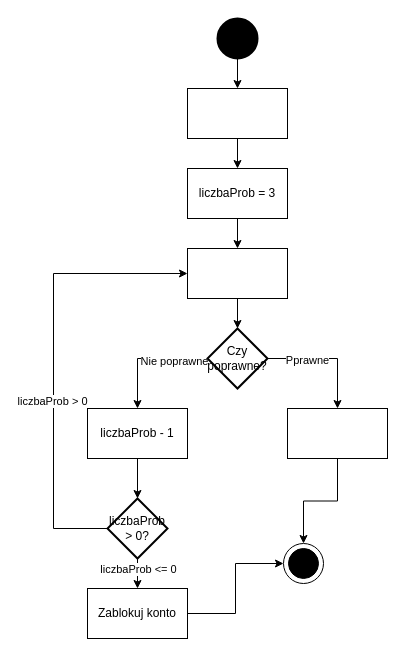
Image size: 405x656. Some labels were removed from this diagram. The box of each missing label's shape, as (x1, y1, x2, y2) in pixels:
Wprowadz dane lgowania: (186, 248, 288, 298)
Zaloguj: (186, 88, 288, 138)
Zaloguj użytkownika: (286, 408, 388, 458)
